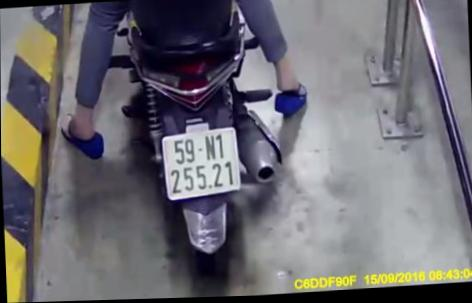LP: (162, 128, 243, 203)
